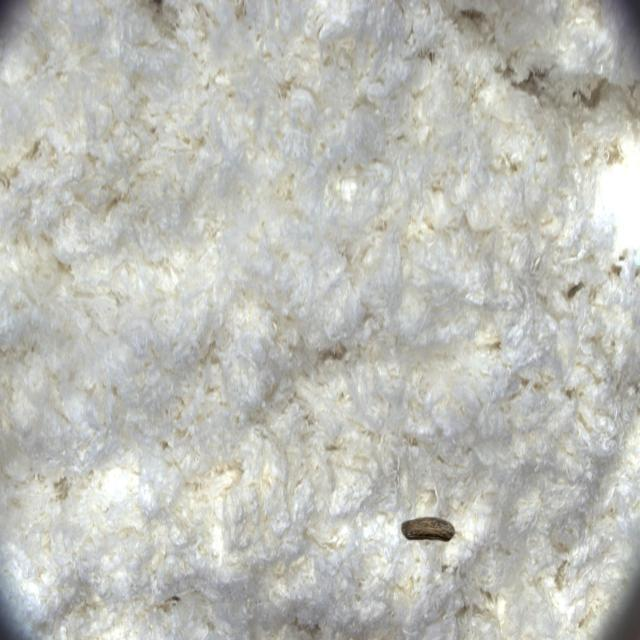dust: (379, 474, 473, 595)
